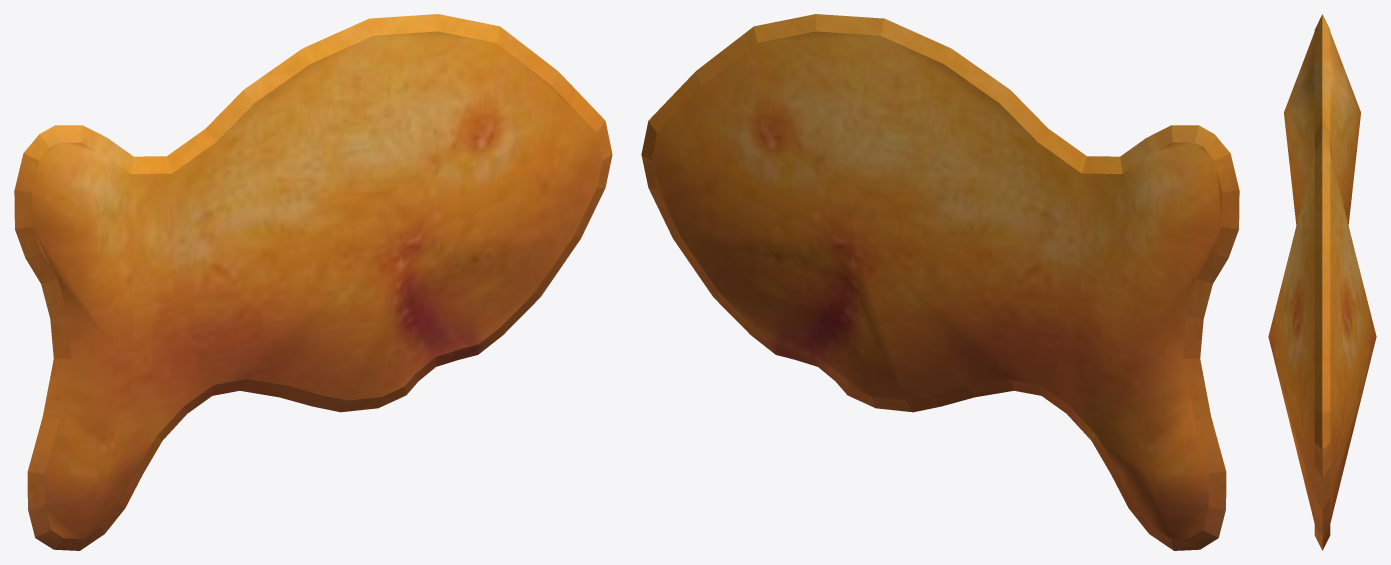
The model's file is GoldFish02.glb.
3 views of the same model, side by side, from view 1: azimuth 30°, elevation 25°; view 2: azimuth 150°, elevation 25°; view 3: azimuth 270°, elevation 25° (orthographic).
Parts seen in each view (by area): view 1: Line004; view 2: Line004; view 3: Line004.
Part boxes in pixels (box(x1,y1,x2,y2)): Line004: box(14, 14, 612, 550); Line004: box(641, 14, 1239, 550); Line004: box(1268, 14, 1376, 550).
Size of the model in its own units: 1.51 by 1.12 by 0.239.
Materials: 1 (1 with a texture image).
